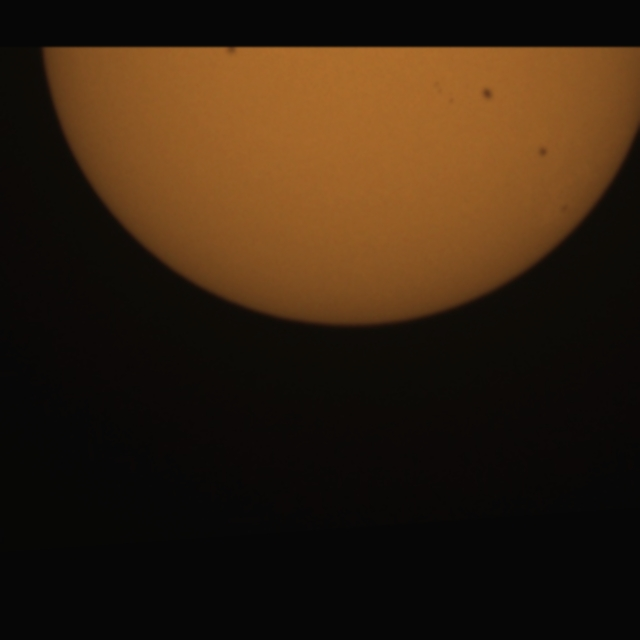sunspot: (432, 81, 455, 106), (479, 85, 495, 103), (432, 80, 444, 97), (536, 145, 549, 159), (224, 46, 239, 58), (559, 202, 571, 215)
